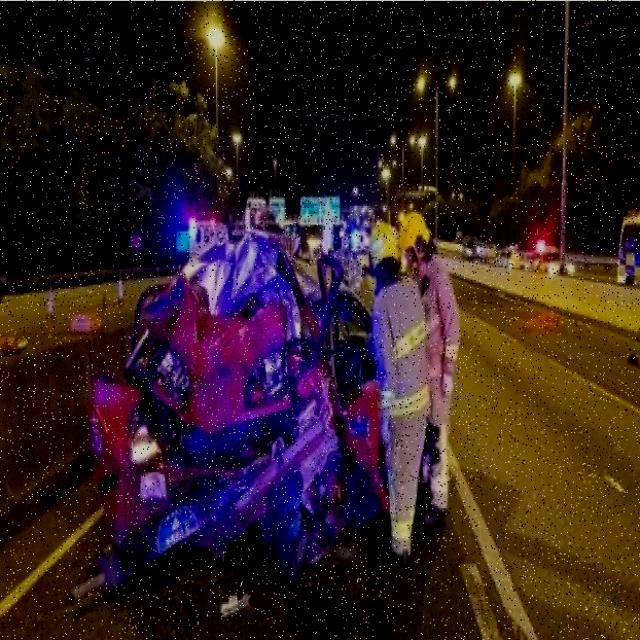accident: (91, 138, 414, 585)
